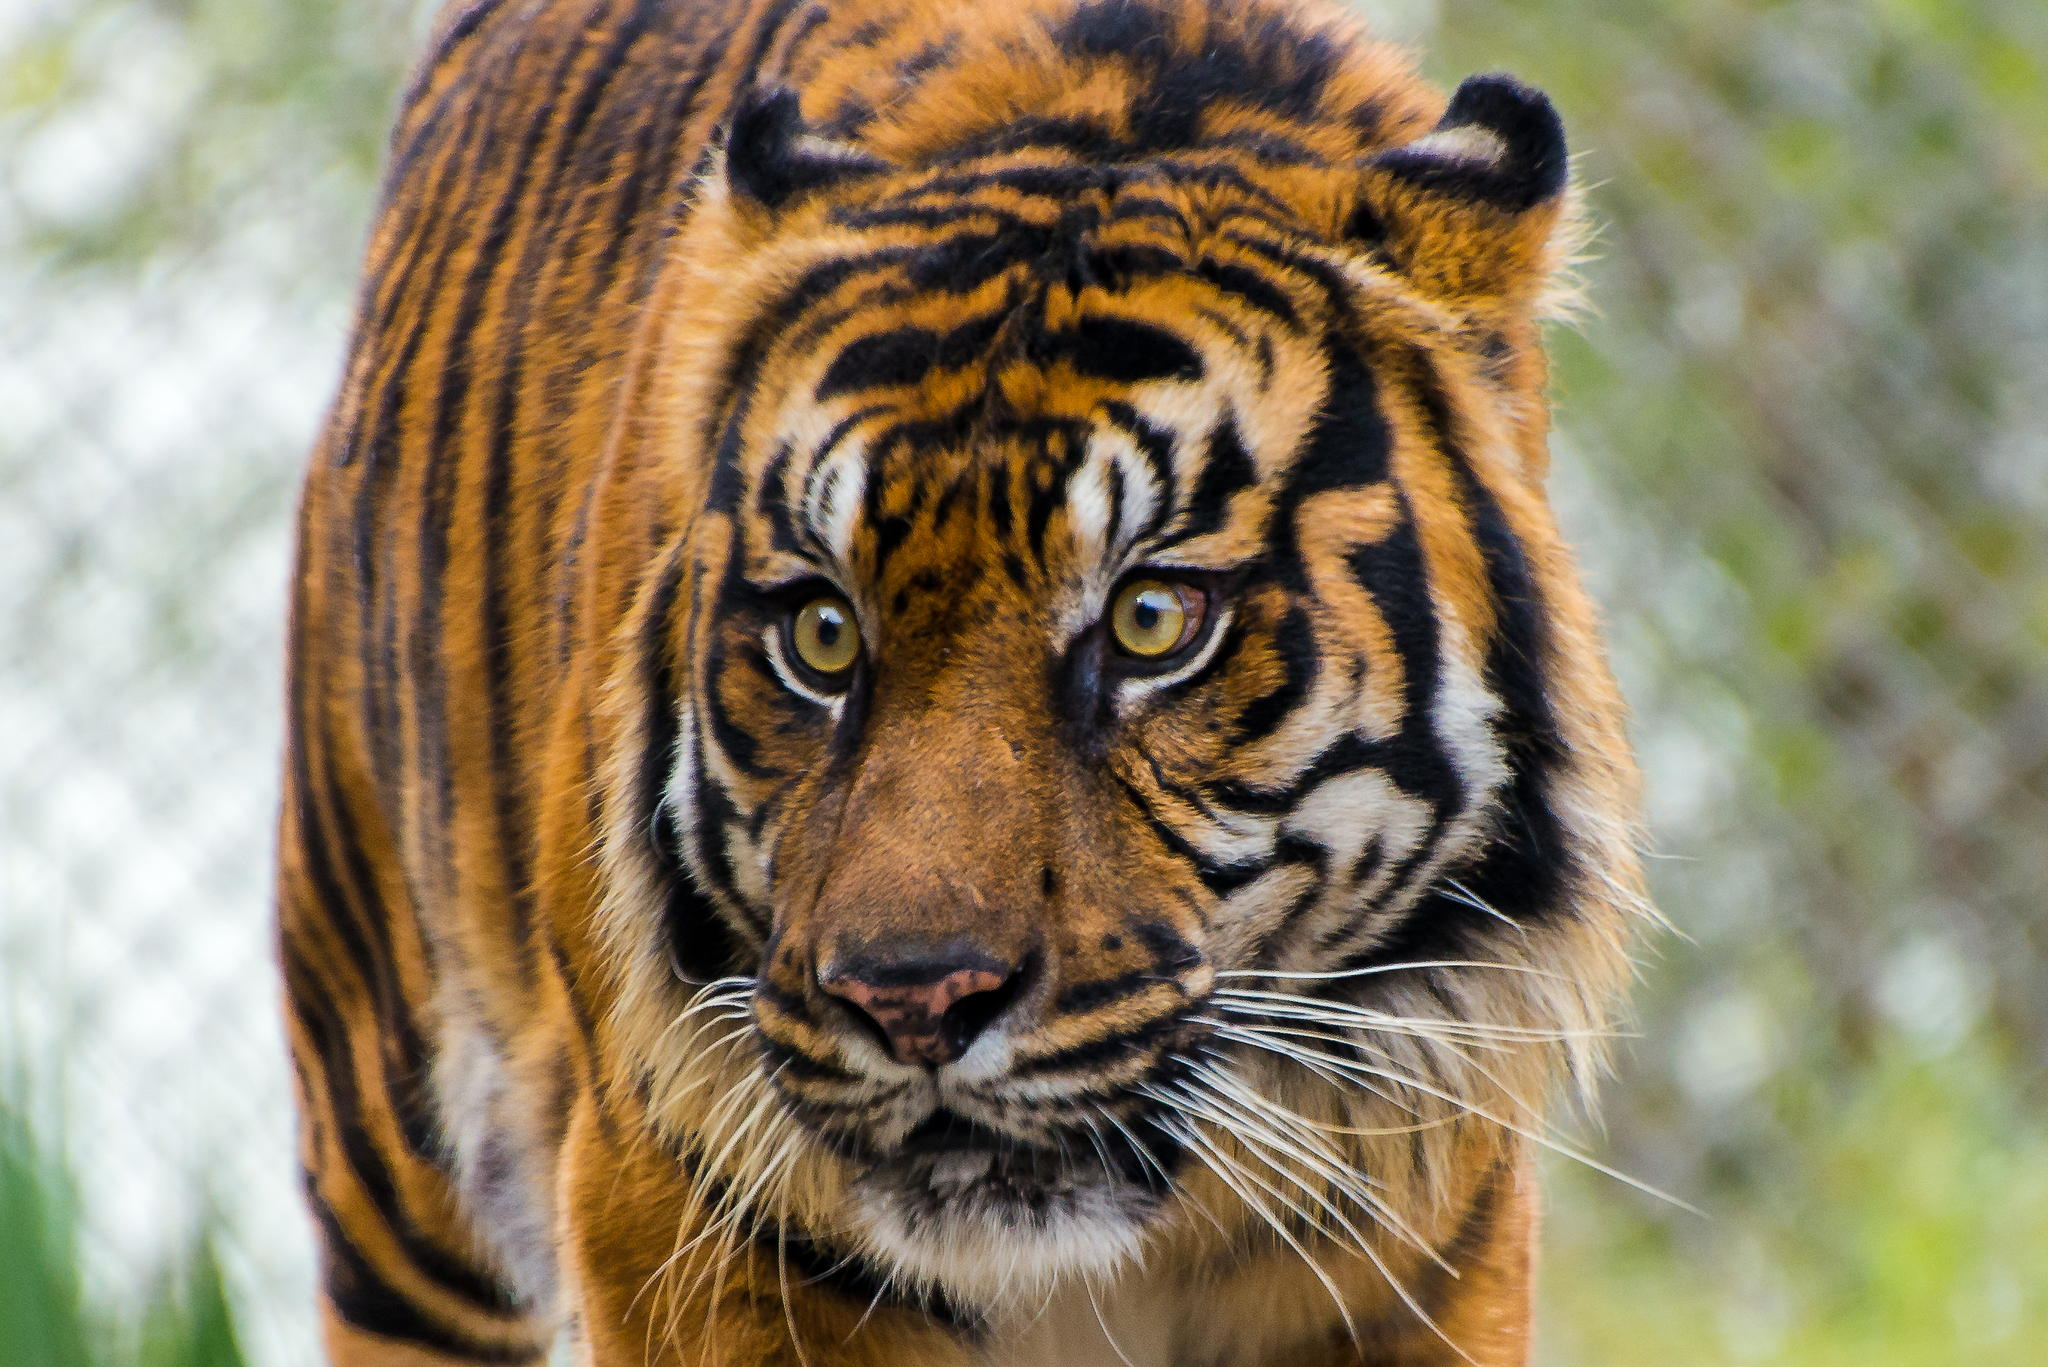tiger: (319, 44, 1595, 1275)
